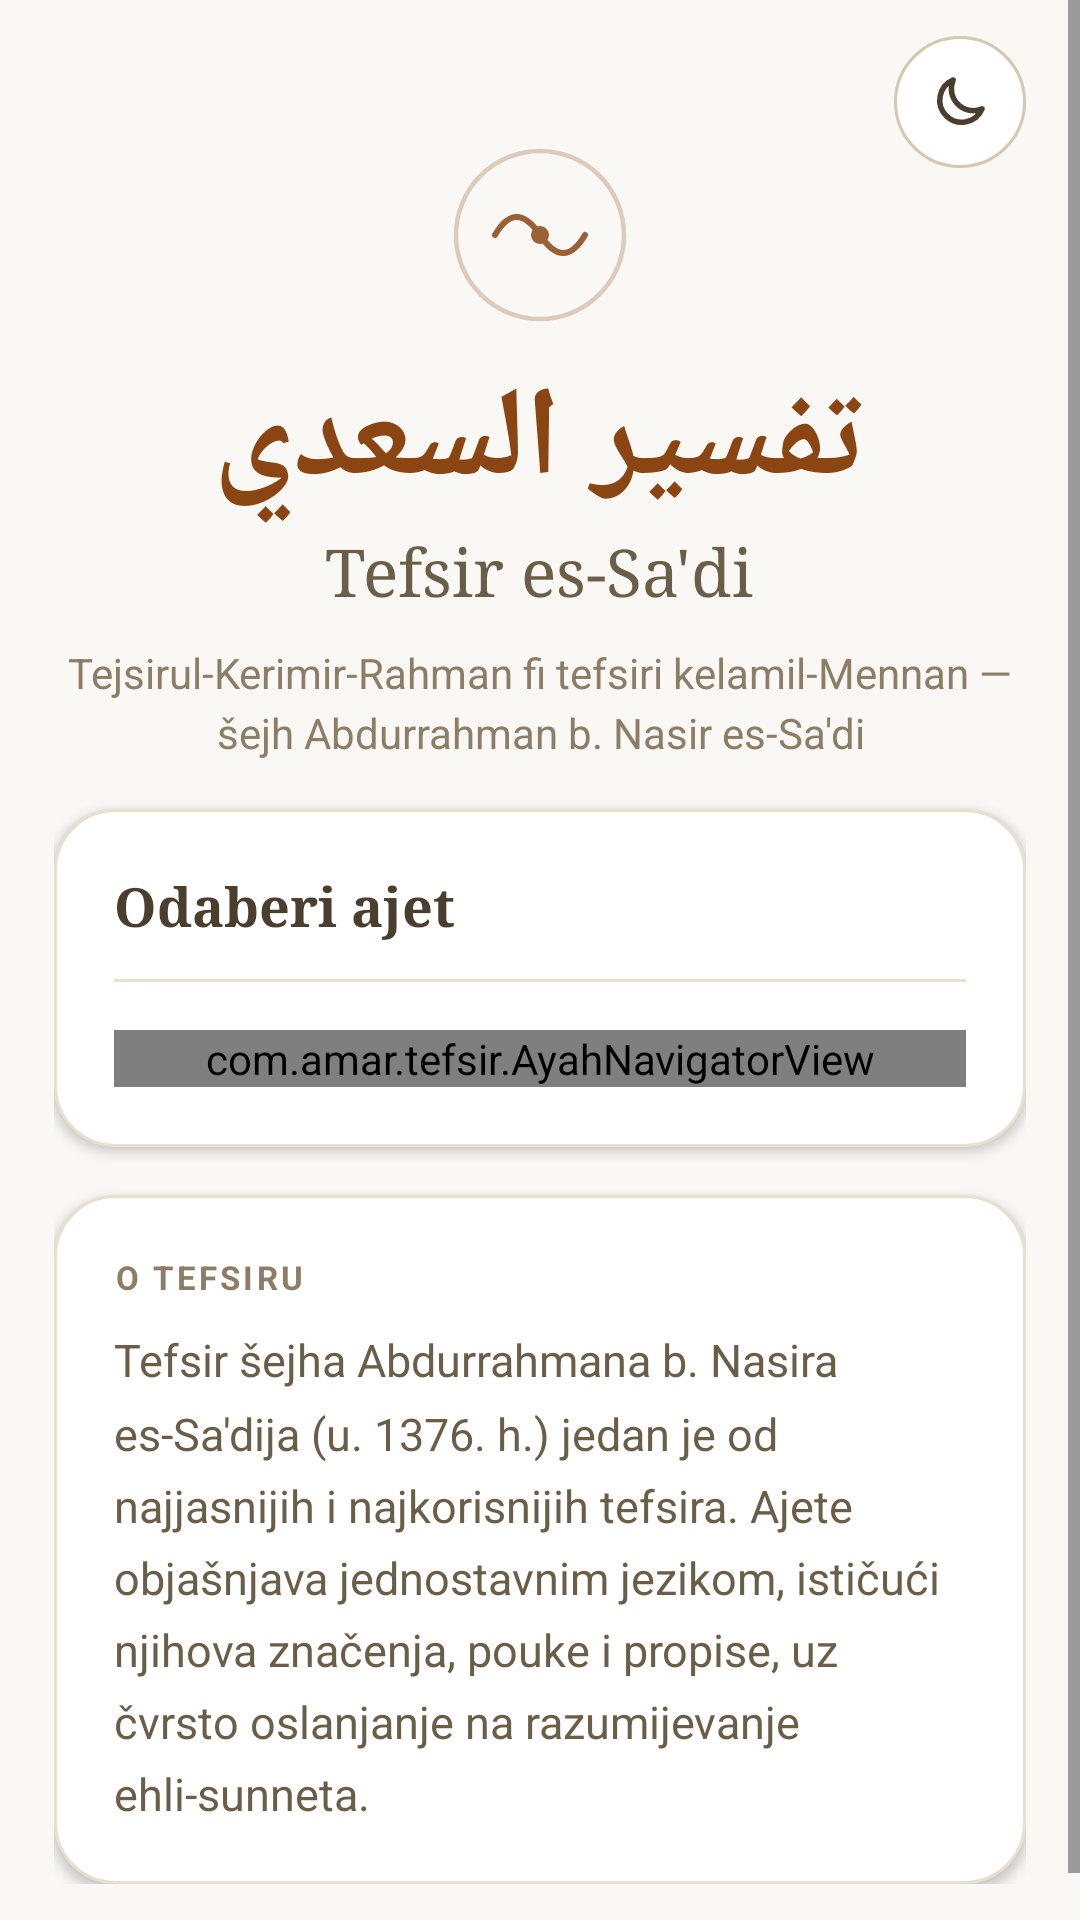

Where to tap for icons on this 1080×1920 app screen, as point (x, y):
Promijeni temu: point (960, 102)
